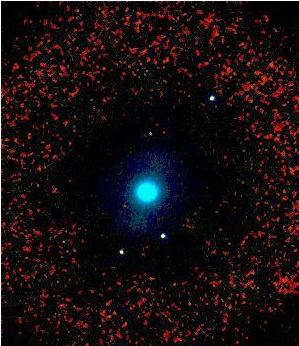star: (134, 120, 164, 150)
